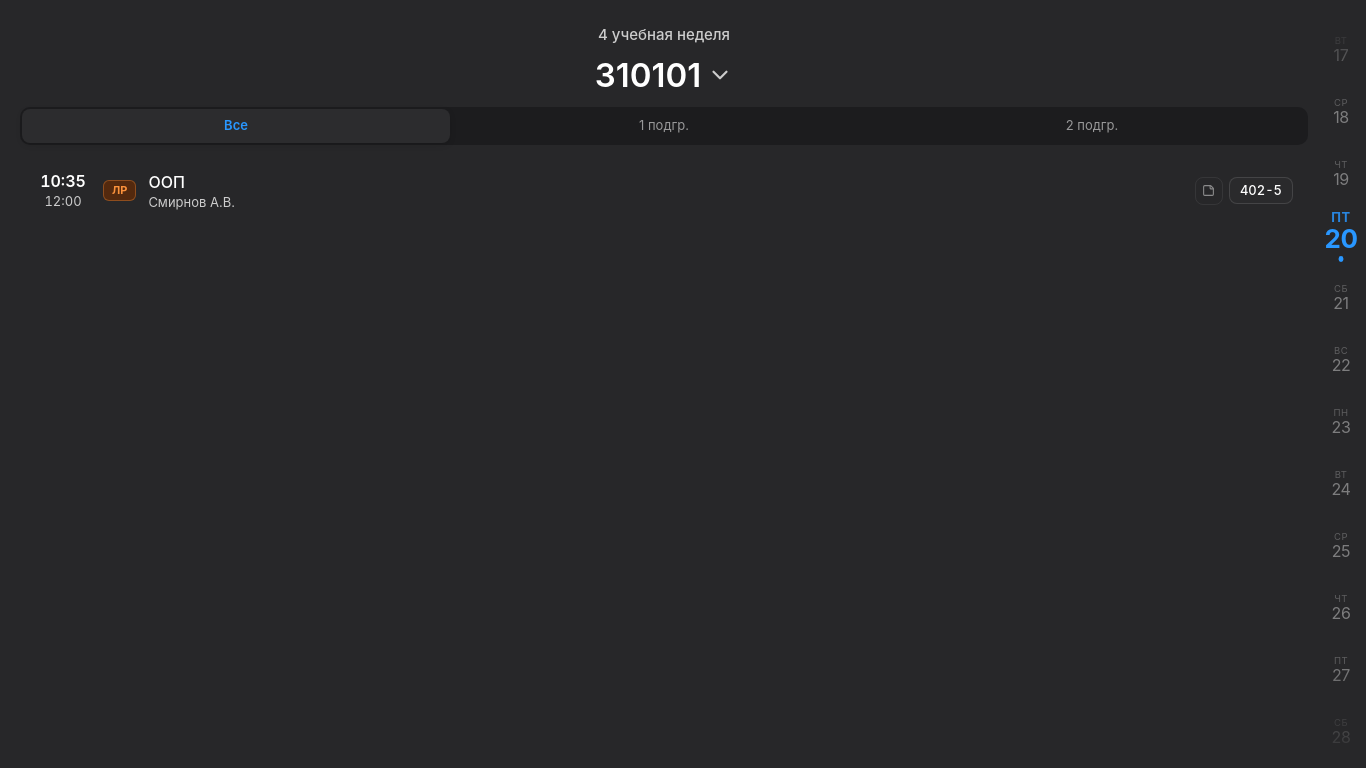
Test: M3 Screens & Schedule Components › ScheduleScreen (F10) › produces 0 BackButton hide/show churn across 5s of 1s ticks while LessonDetailModal is open
(page scrolled)
Click the button "10:35 12:00 ЛР ООП Смирнов А.В. 402-5" at (63, 181), box x1=20 y1=159 x2=1308 y2=223
Wait 5000 ms
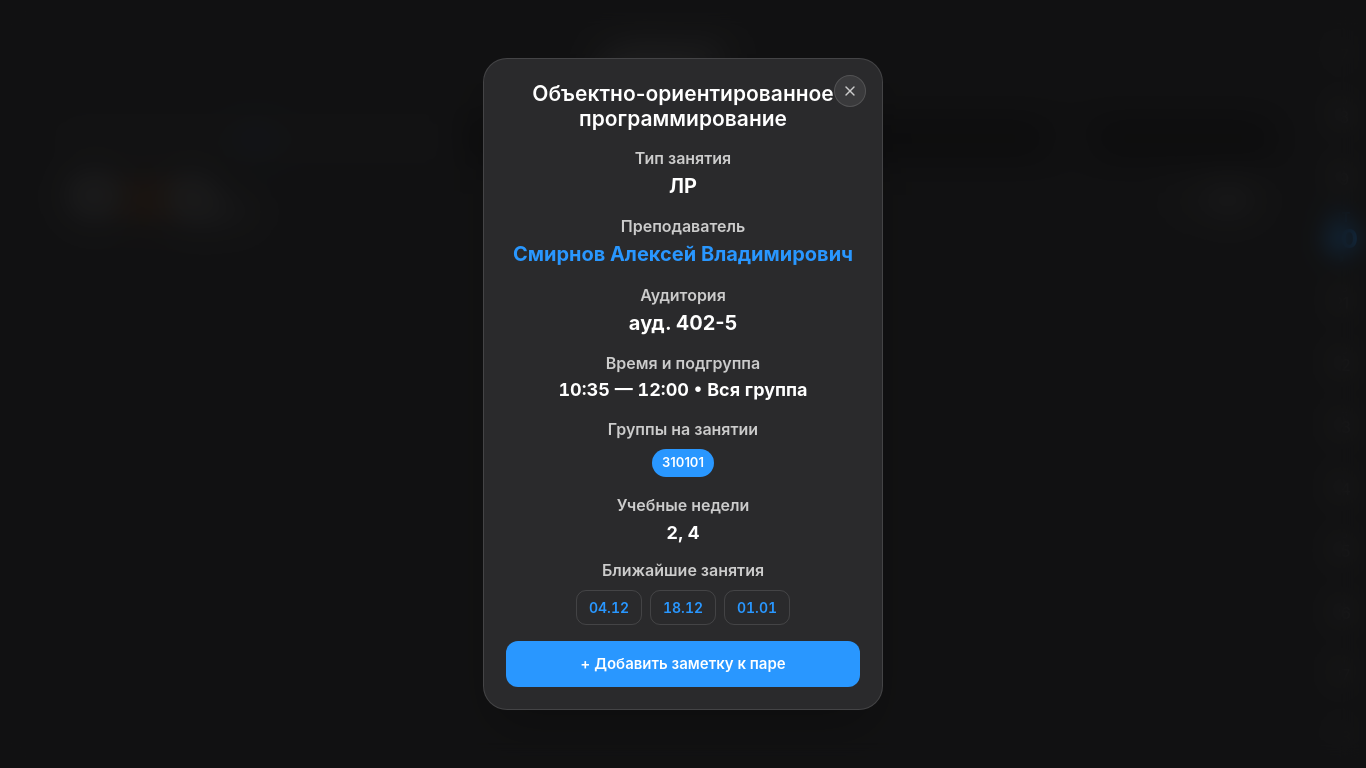
Check: the dialog is shown
